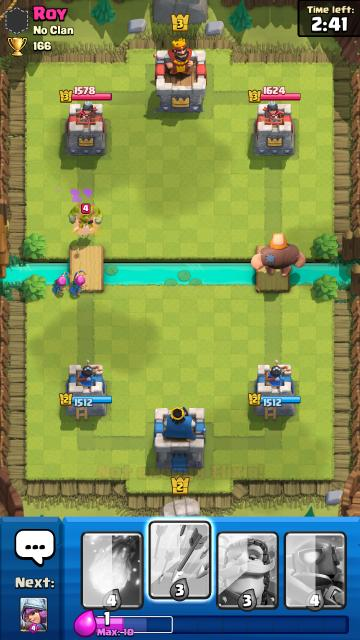ally_ranged: (69, 270, 89, 296), (53, 271, 70, 295)
ally_tank: (251, 233, 306, 276)
enemy_melee: (69, 204, 104, 229)
